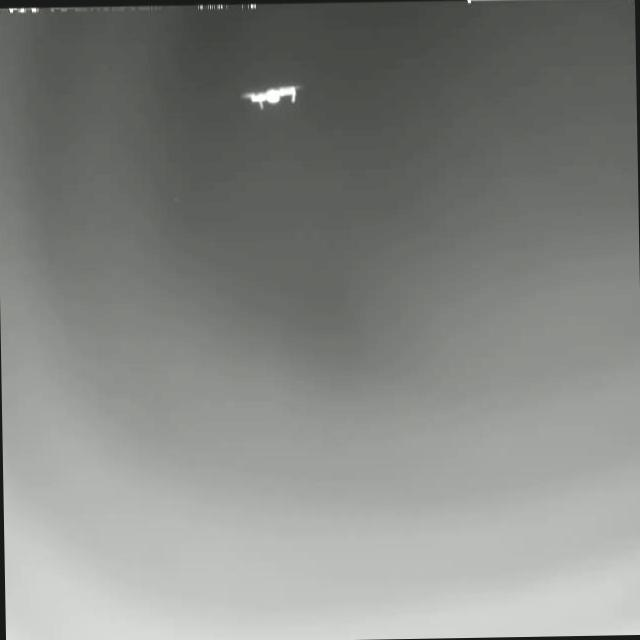DRONE: (241, 82, 304, 109)
